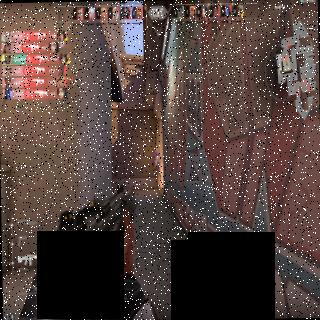ENEMY-BODY: (152, 146, 160, 180)
ENEMY-HEAD: (154, 146, 157, 154)
